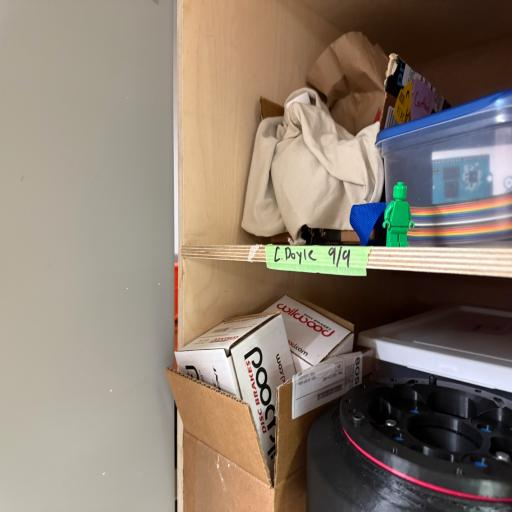Lego-Dude: (378, 180, 414, 246)
